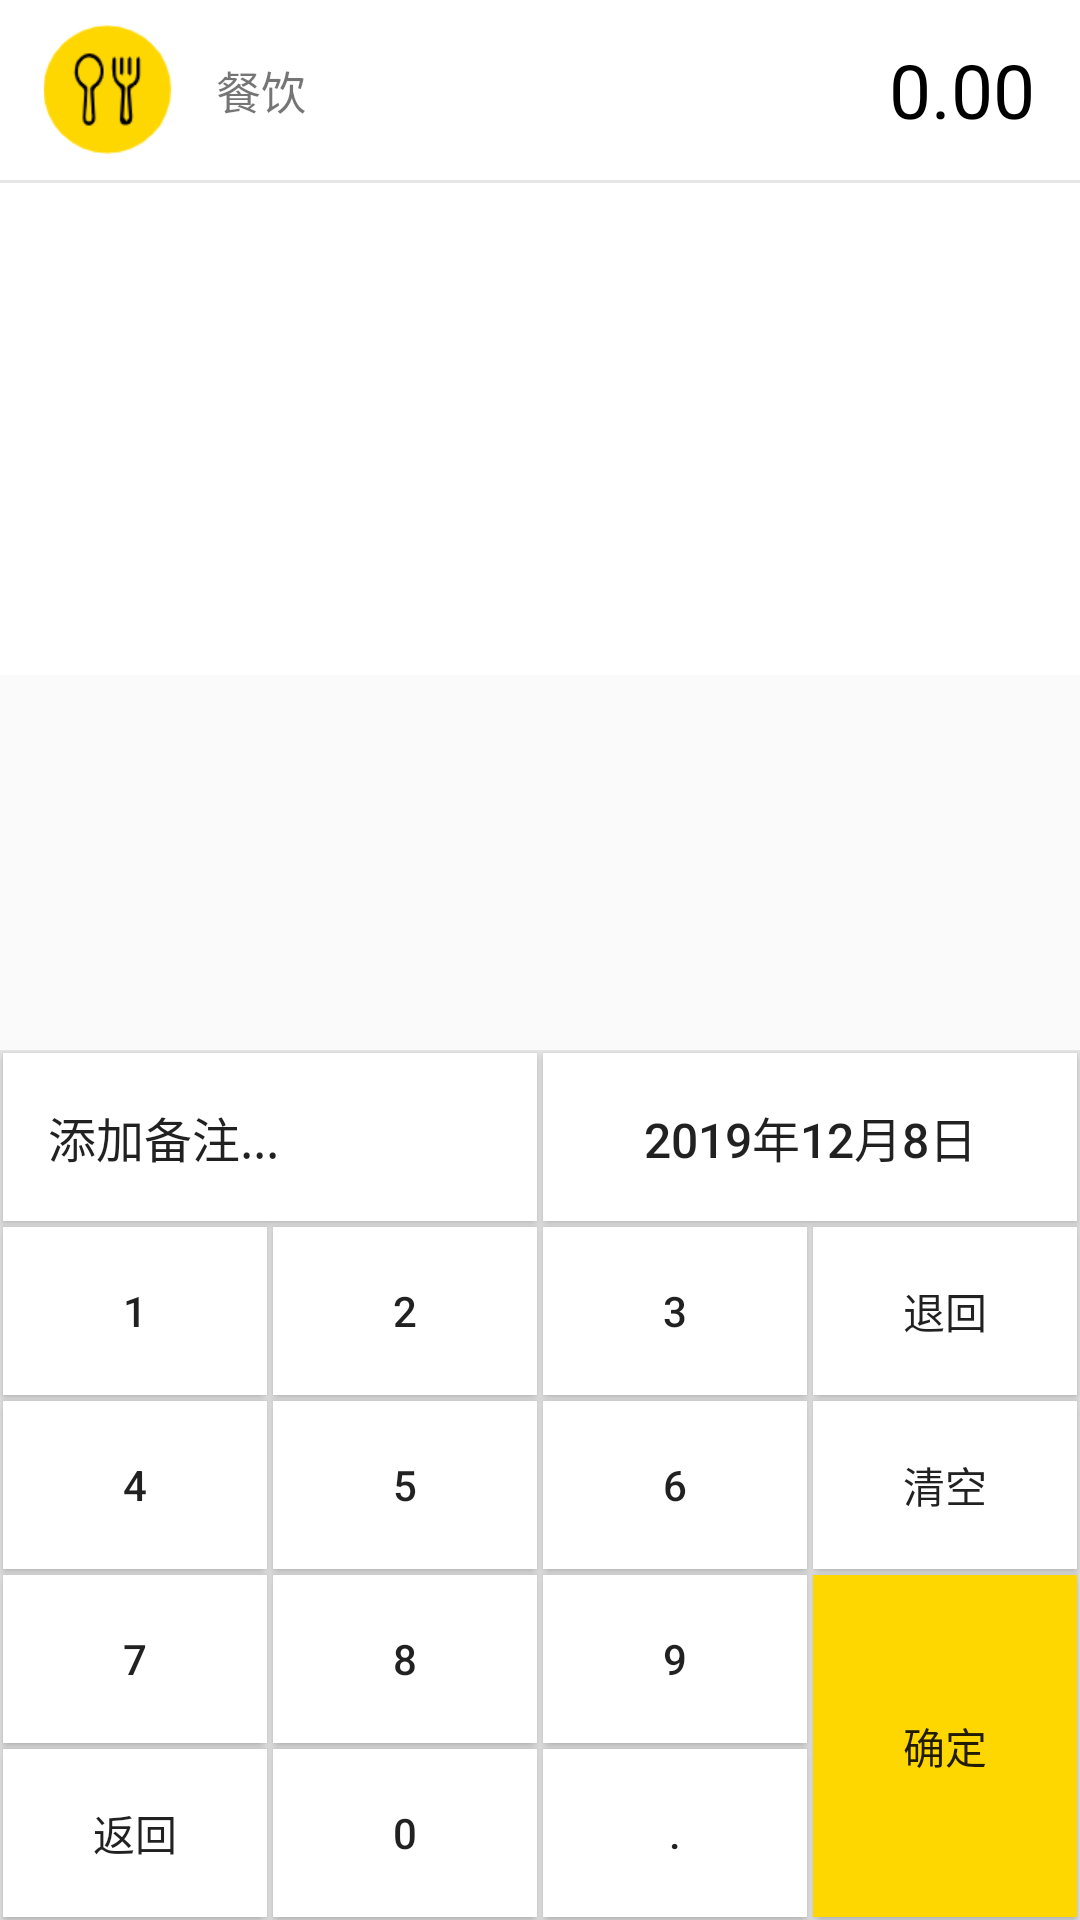

Where icons sit on this 1080*1920 app screen, as (x1, y1, x2, y2):
expend kind: (44, 25, 172, 154)
